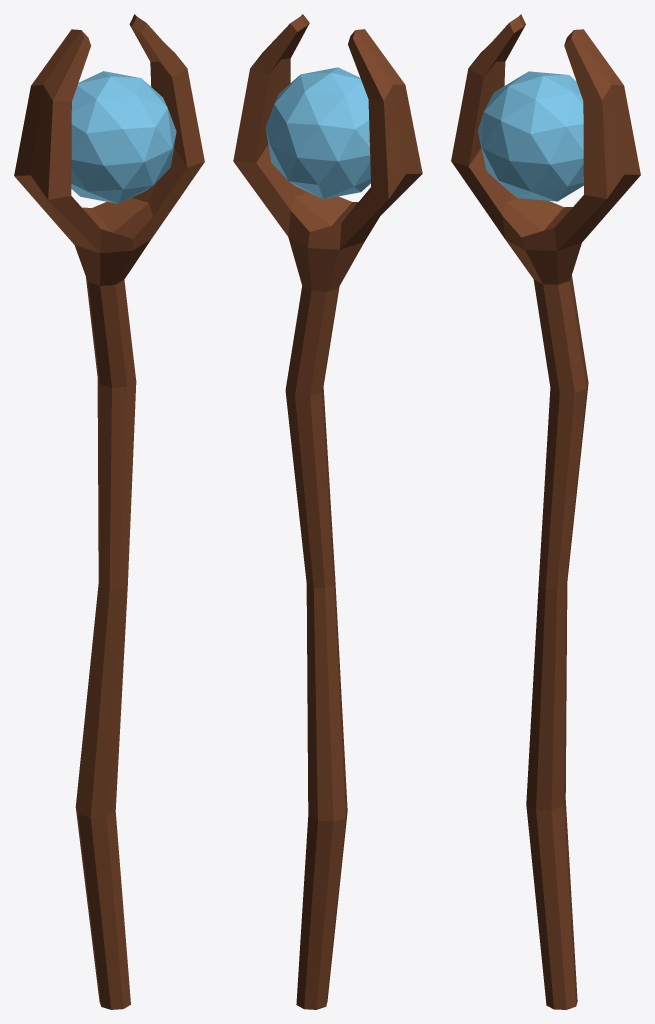
The model's file is STAFF.fbx.
3 renders of one model, left to right at view 1: azimuth 30°, elevation 25°; view 2: azimuth 150°, elevation 25°; view 3: azimuth 330°, elevation 25°, orthographic.
Parts seen in each view (by area): view 1: Staff; view 2: Staff; view 3: Staff.
Part boxes in pixels (x1=…): Staff: x1=14, y1=14, x2=204, y2=1009; Staff: x1=233, y1=14, x2=422, y2=1009; Staff: x1=451, y1=14, x2=640, y2=1009.
Bounding box in the file's own units: 39.95 × 239 × 29.52.
